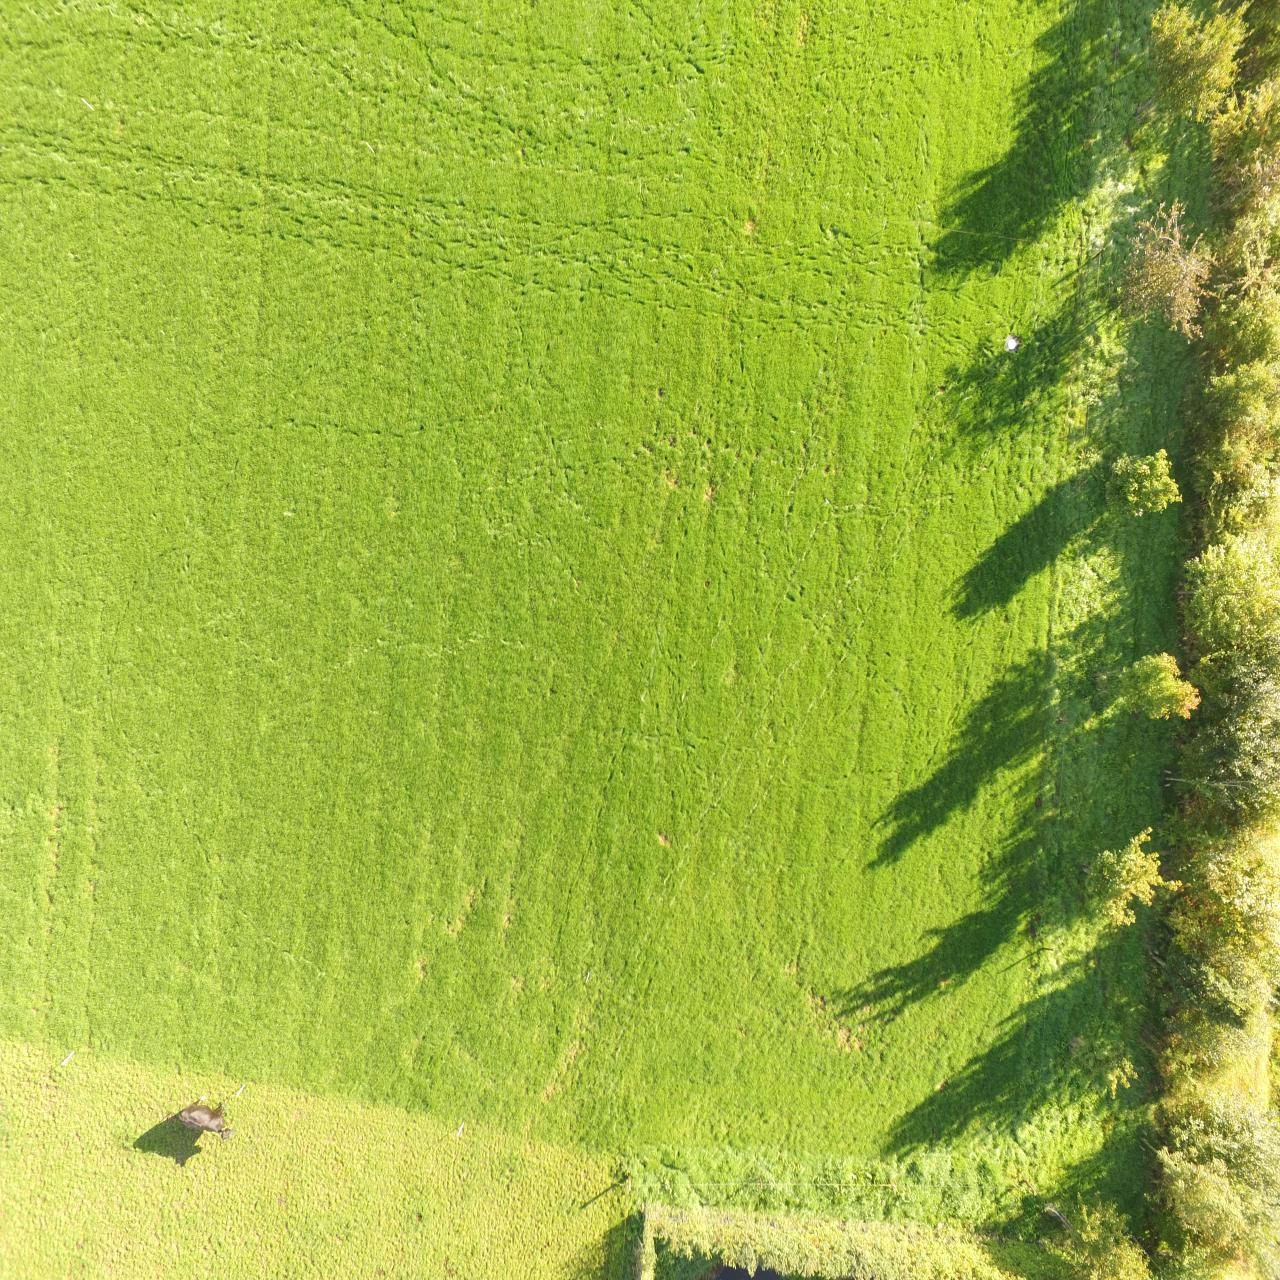cow: (178, 1096, 234, 1141)
